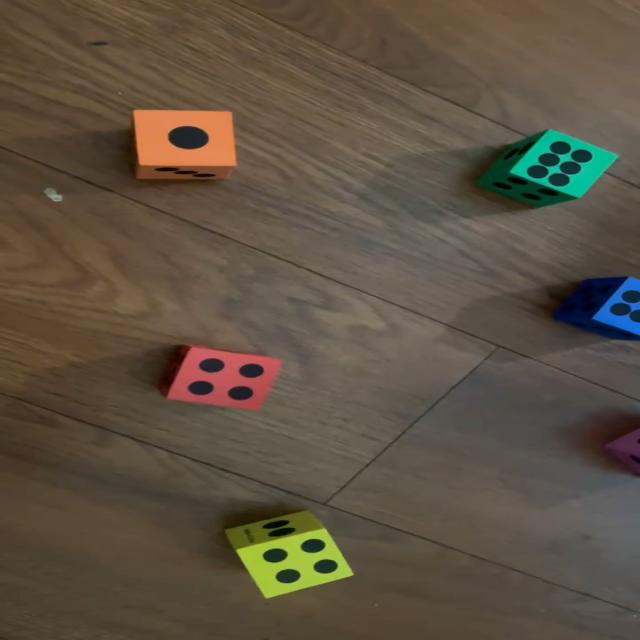blue_block: (556, 276, 640, 340)
red_block: (161, 345, 283, 409)
